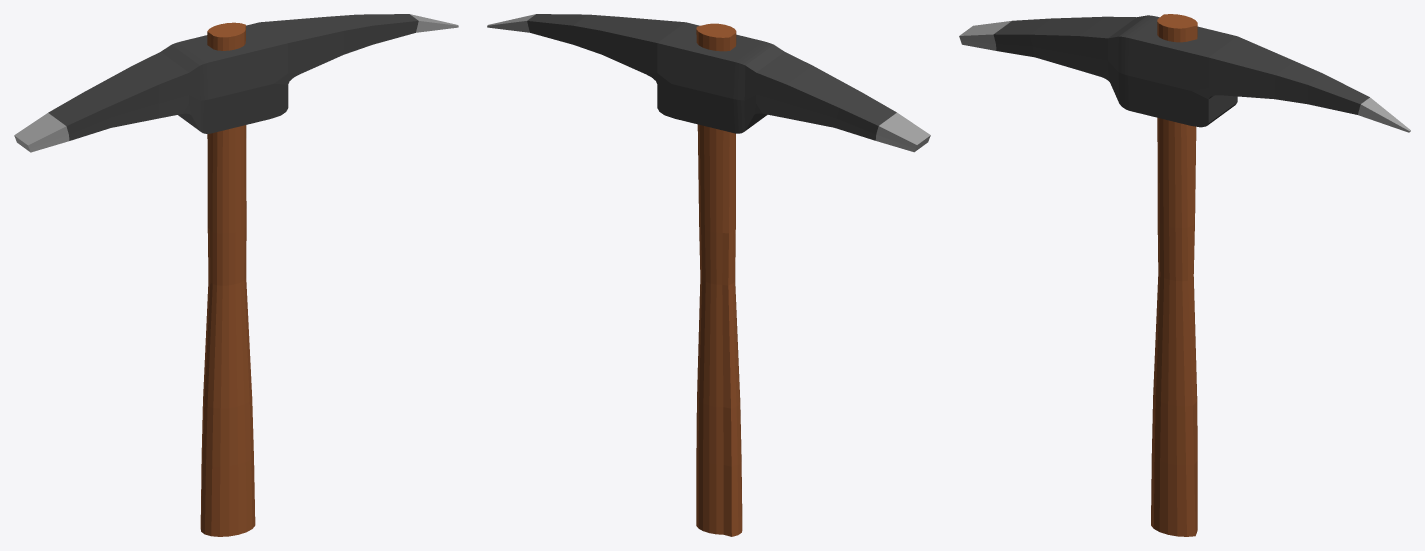
The model's file is Pickaxe 1.glb.
The picture shows the model from 3 angles, left to right: view 1: azimuth 30°, elevation 25°; view 2: azimuth 150°, elevation 25°; view 3: azimuth 330°, elevation 25°; orthographic projection.
Visible parts, largest first — view 1: PickAxe1; view 2: PickAxe1; view 3: PickAxe1.
Boxes of the visible parts, x1=… form: PickAxe1: x1=14, y1=14, x2=458, y2=536; PickAxe1: x1=487, y1=14, x2=930, y2=536; PickAxe1: x1=959, y1=14, x2=1410, y2=536.
Size of the model in its own units: 0.5965 by 0.6491 by 0.0748.
